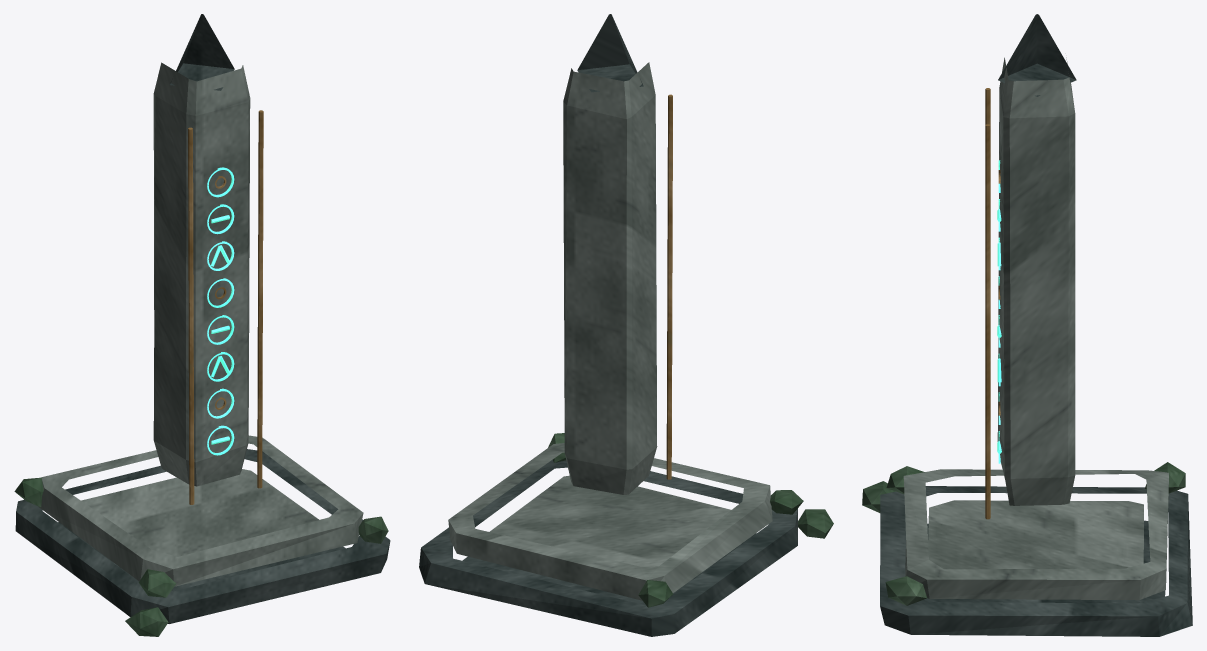
File: 0495_obelisk_20.glb
3 renders of one model, left to right at view 1: azimuth 30°, elevation 25°; view 2: azimuth 150°, elevation 25°; view 3: azimuth 270°, elevation 25°, orthographic. The views are drawn at different scales.
Visible parts, largest first — view 1: stone, stone_dark, brass, moss, glow; view 2: stone, stone_dark, moss, brass; view 3: stone, stone_dark, brass, moss, glow.
Boxes of the visible parts, box(x1,y1,x2,y2) form: stone: box(39, 62, 363, 586); stone_dark: box(15, 14, 390, 623); brass: box(188, 110, 263, 504); moss: box(14, 477, 388, 636); glow: box(207, 167, 234, 455); stone: box(448, 62, 772, 600); stone_dark: box(419, 14, 797, 636); moss: box(548, 433, 833, 607); brass: box(666, 94, 672, 479); stone: box(903, 57, 1168, 600); stone_dark: box(880, 14, 1192, 636); brass: box(985, 88, 1000, 519); moss: box(862, 462, 1185, 605); glow: box(997, 160, 1001, 463).
Size of the model in its own units: 2.01 by 3.76 by 2.01.
Materials: 5 (5 with a texture image).
